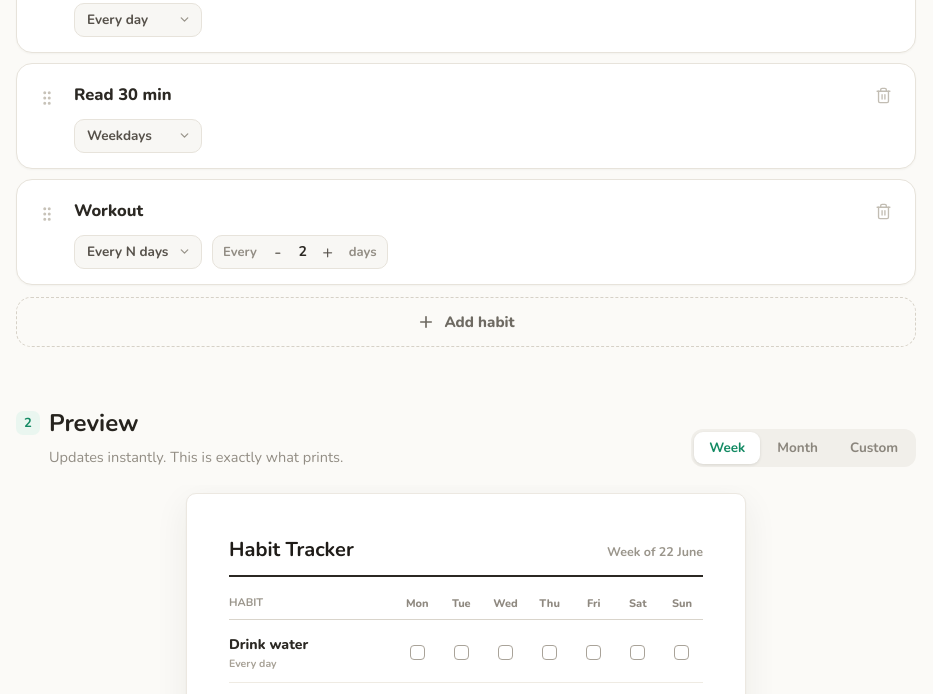
Test case: App › adds a habit and mirrors its name in the preview
(page scrolled)
Click the button "Add habit".
click(466, 322)  # box [16, 297, 916, 347]
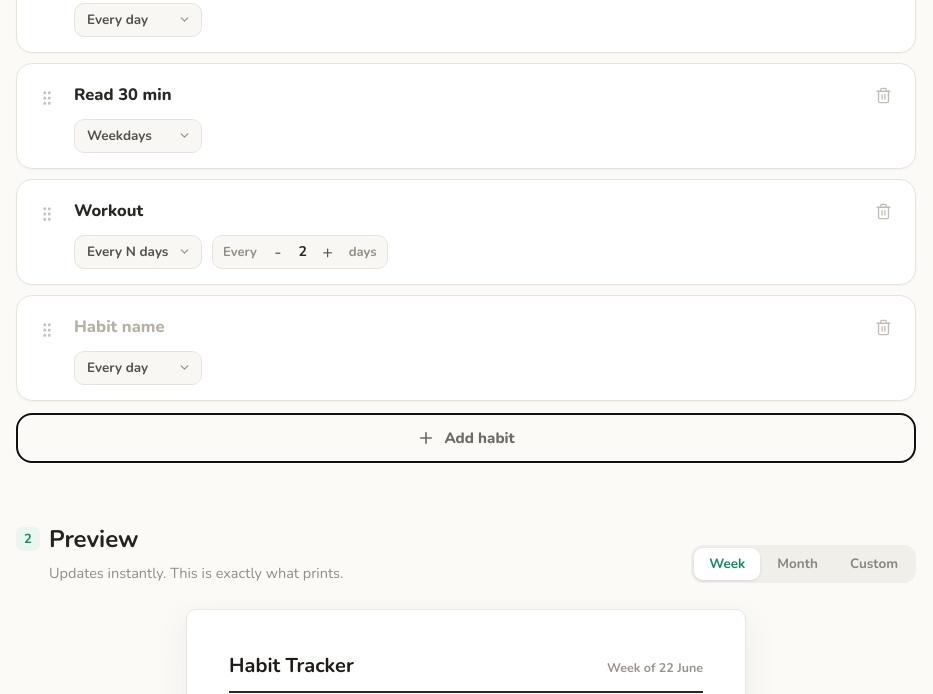
Type "Meditate" into the field labelled "Habit name".
click(464, 326); type("Meditate")  # box [74, 313, 854, 340]
(page scrolled)
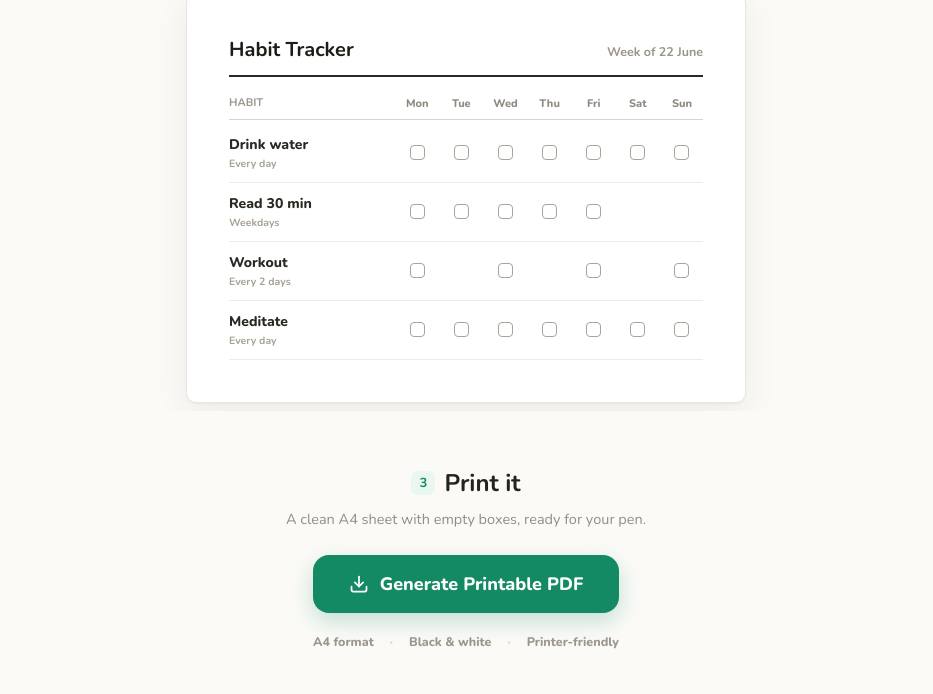
Result: the text "Meditate" is shown at [229, 312, 288, 331]
